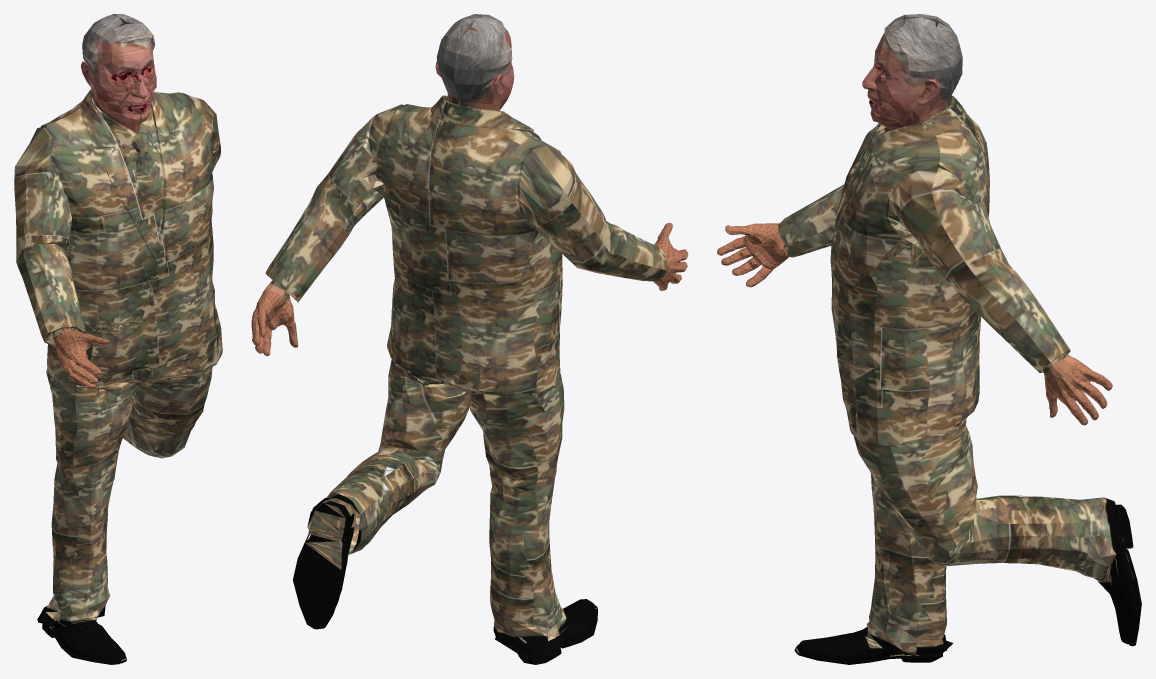
Rendered from zombie_000006.obj.
3 renders of one model, left to right at view 1: azimuth 30°, elevation 25°; view 2: azimuth 150°, elevation 25°; view 3: azimuth 270°, elevation 25°, orthographic. The views are drawn at different scales.
Parts seen in each view (by area): view 1: Suit_coat_orig_9___De, objGeo_Hea_orig_9___D; view 2: Suit_coat_orig_9___De, objGeo_Hea_orig_9___D; view 3: Suit_coat_orig_9___De, objGeo_Hea_orig_9___D.
Part boxes in pixels (x1=…): Suit_coat_orig_9___De: x1=14, y1=88, x2=222, y2=664; objGeo_Hea_orig_9___D: x1=81, y1=14, x2=156, y2=132; Suit_coat_orig_9___De: x1=251, y1=95, x2=688, y2=664; objGeo_Hea_orig_9___D: x1=435, y1=14, x2=514, y2=110; Suit_coat_orig_9___De: x1=717, y1=95, x2=1141, y2=664; objGeo_Hea_orig_9___D: x1=862, y1=14, x2=962, y2=131.
Bounding box in the file's own units: 0.8848 × 1.85 × 1.06.
